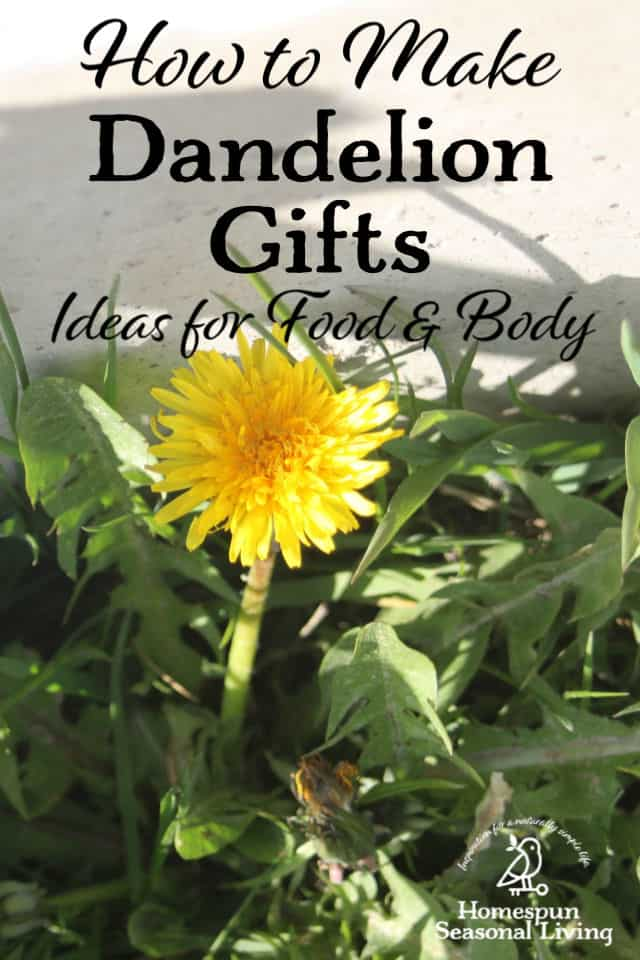dandelion: (157, 369, 372, 525)
